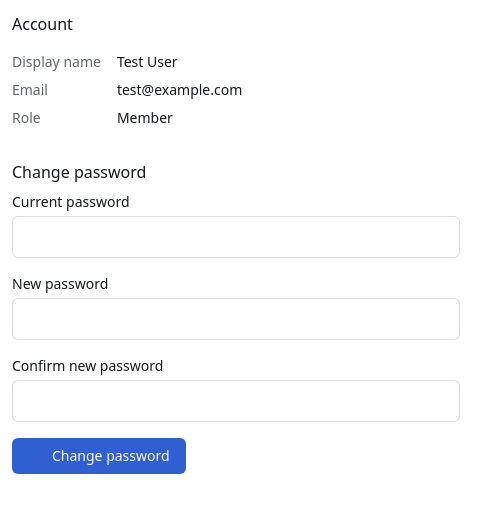
maps a 422 auth.password_policy to the new-password field using the server detail
Expected: the text "Test User" is shown, top-left (117, 52), bottom-right (178, 71)
Type "old-password-123" into the password field labelled "Current password" at [236, 237], box top-left (12, 216), bottom-right (460, 258)
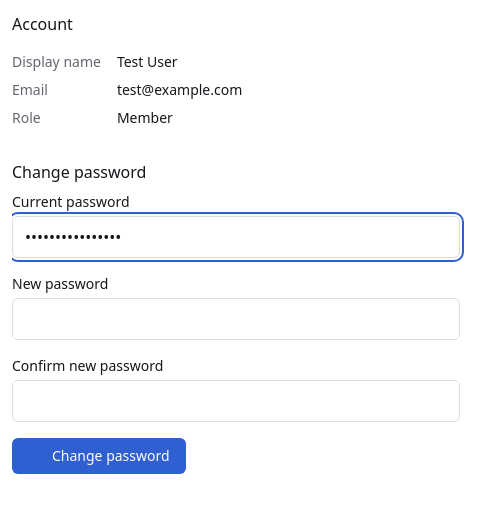
Type "new-password-456" into the password field labelled "New password" at [236, 319], box top-left (12, 298), bottom-right (460, 340)
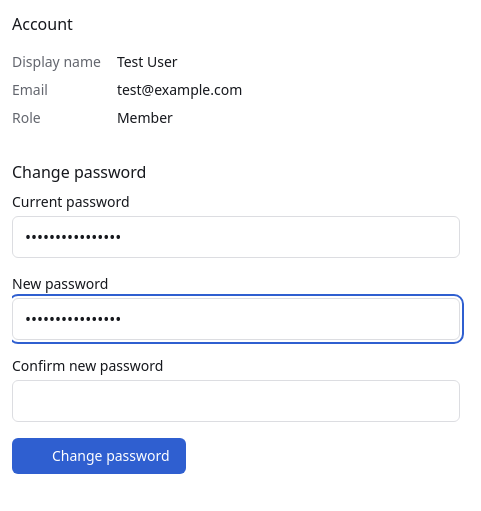
Type "new-password-456" into the password field labelled "Confirm new password" at [236, 401], box top-left (12, 380), bottom-right (460, 422)
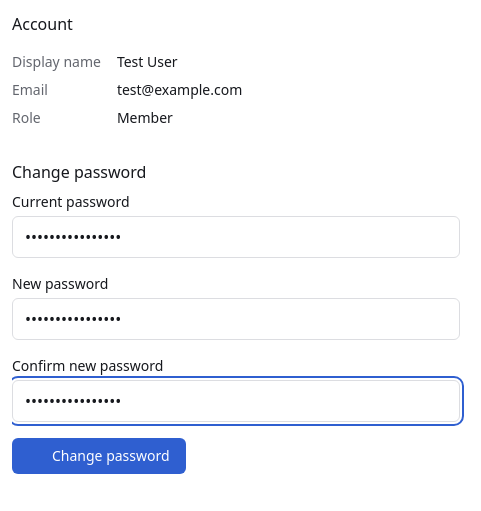
Click the button "Change password" at [99, 456], box top-left (12, 438), bottom-right (186, 474)
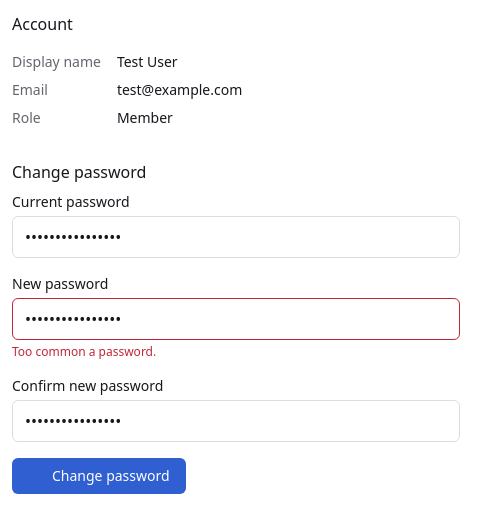
Expected: the text "Too common a password." is shown, top-left (12, 343), bottom-right (156, 360)
